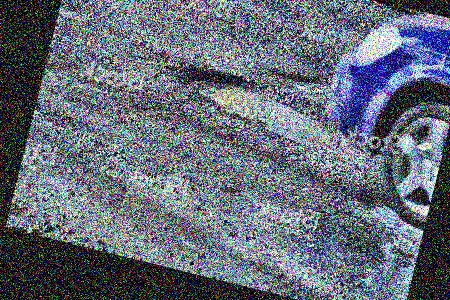pothole: (165, 58, 351, 156), (58, 2, 93, 24)
